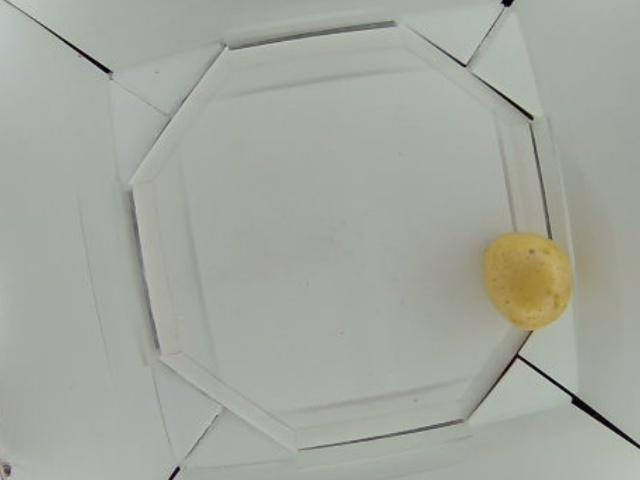Potato: (484, 228, 574, 333)
